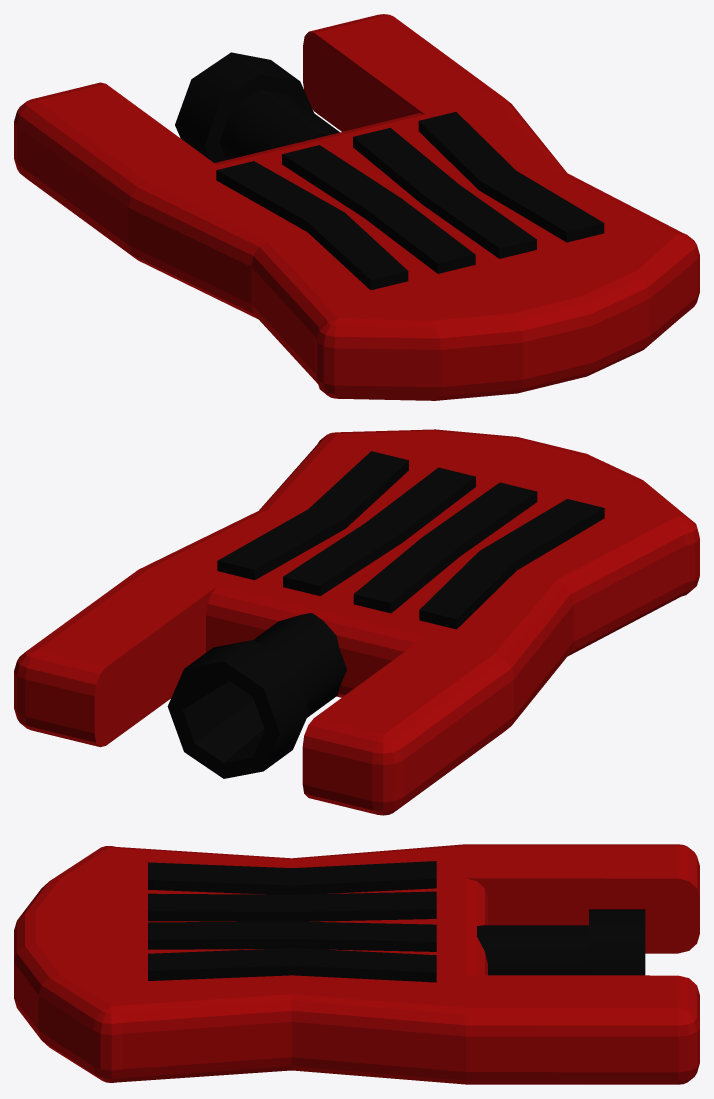
Rendered from BoxyEnemy.FBX.
3 views of the same model, one above another, from view 1: azimuth 30°, elevation 25°; view 2: azimuth 150°, elevation 25°; view 3: azimuth 270°, elevation 25° (orthographic). The views are drawn at different scales.
Visible parts, largest first — view 1: ChamferBox04, Cylinder13, Box04, Box03, Box06, Box05; view 2: ChamferBox04, Cylinder13, Box05, Box06, Box03, Box04; view 3: ChamferBox04, Cylinder13, Box04, Box06, Box05, Box03.
Boxes of the visible parts, left/top/right/bottom form: ChamferBox04: left=14, top=14, right=699, bottom=400; Cylinder13: left=175, top=52, right=339, bottom=162; Box04: left=282, top=145, right=475, bottom=273; Box03: left=216, top=161, right=408, bottom=290; Box06: left=418, top=112, right=604, bottom=242; Box05: left=353, top=127, right=536, bottom=258; ChamferBox04: left=14, top=429, right=699, bottom=815; Cylinder13: left=167, top=613, right=346, bottom=778; Box05: left=283, top=467, right=475, bottom=596; Box06: left=217, top=451, right=408, bottom=580; Box03: left=419, top=499, right=604, bottom=629; Box04: left=353, top=482, right=537, bottom=613; ChamferBox04: left=14, top=844, right=699, bottom=1084; Cylinder13: left=477, top=909, right=645, bottom=975; Box04: left=148, top=891, right=436, bottom=921; Box06: left=148, top=948, right=436, bottom=982; Box05: left=148, top=921, right=436, bottom=951; Box03: left=148, top=861, right=436, bottom=894.
Size of the model in its own units: 102 by 29.68 by 164.
